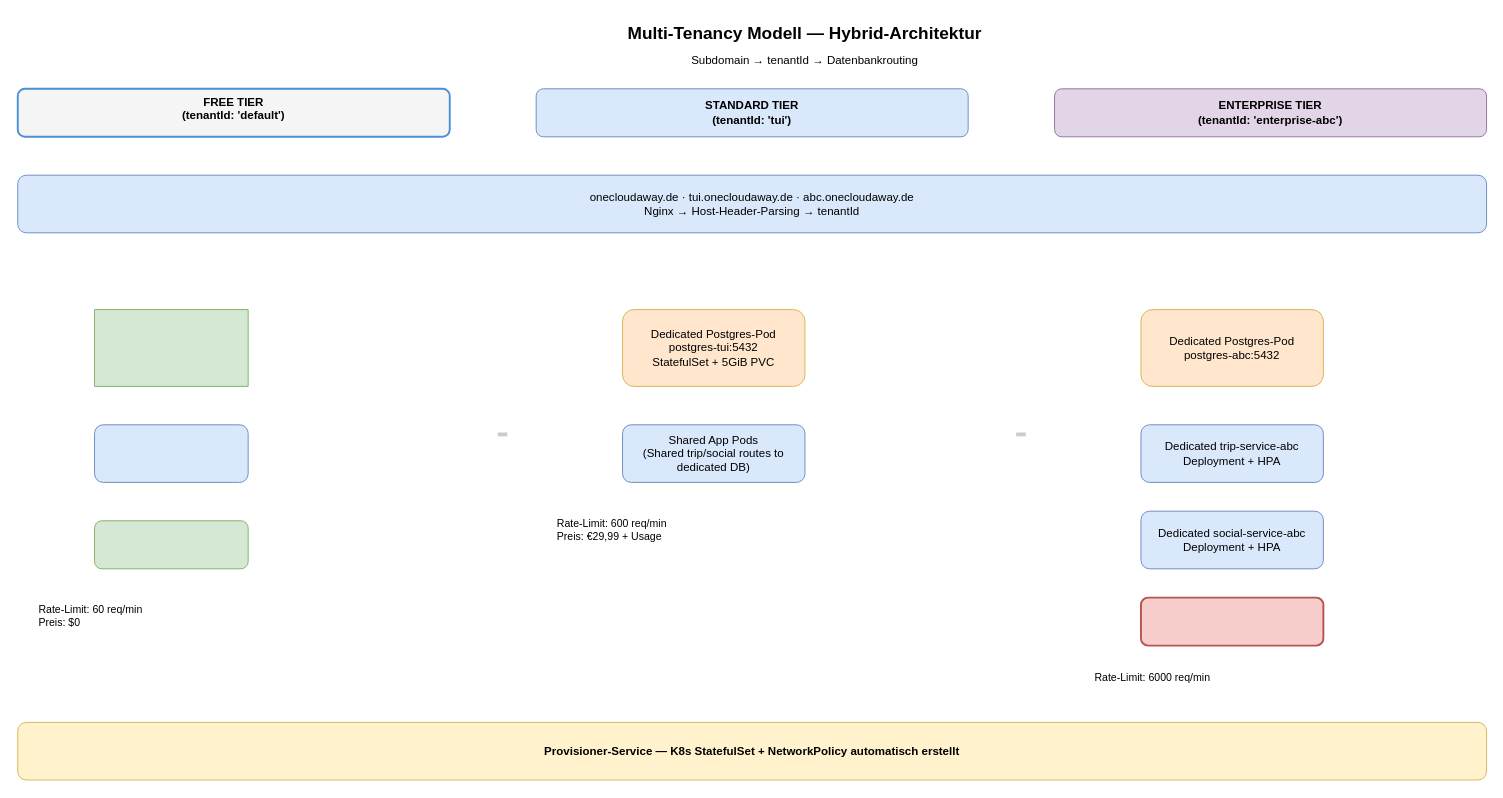
Image size: 1503x798. Some labels were removed from this diagram. Each missing label, with the centre of its shape:
"NetworkPolicy (Ingress nur von eigenen Pods)" belongs at (x=1232, y=621).
"Redis (geteilt)" belongs at (x=171, y=544).
"Shared App Pods (alle 8 Services geteilt)" belongs at (x=171, y=453).
"Shared PostgreSQL (Cloud SQL)" belongs at (x=171, y=347).
